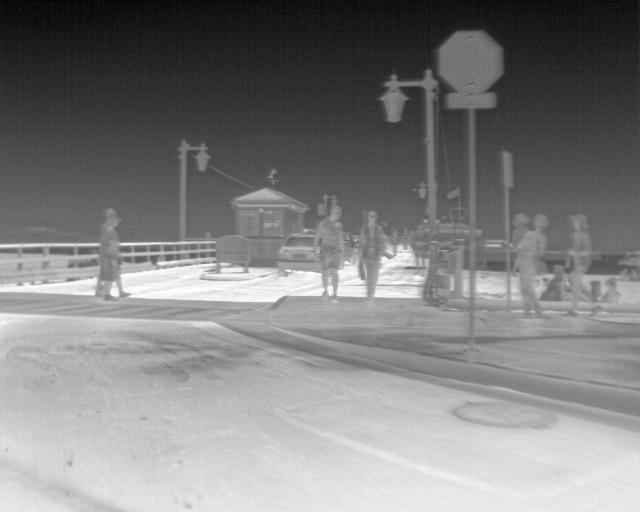bicycle: (278, 232, 318, 276)
empty: (314, 203, 350, 302), (565, 210, 598, 316), (353, 211, 393, 298), (516, 216, 547, 318), (96, 213, 122, 303), (506, 212, 529, 254), (410, 224, 429, 268), (542, 272, 564, 302), (598, 276, 620, 304), (387, 228, 401, 255), (400, 226, 413, 250)
